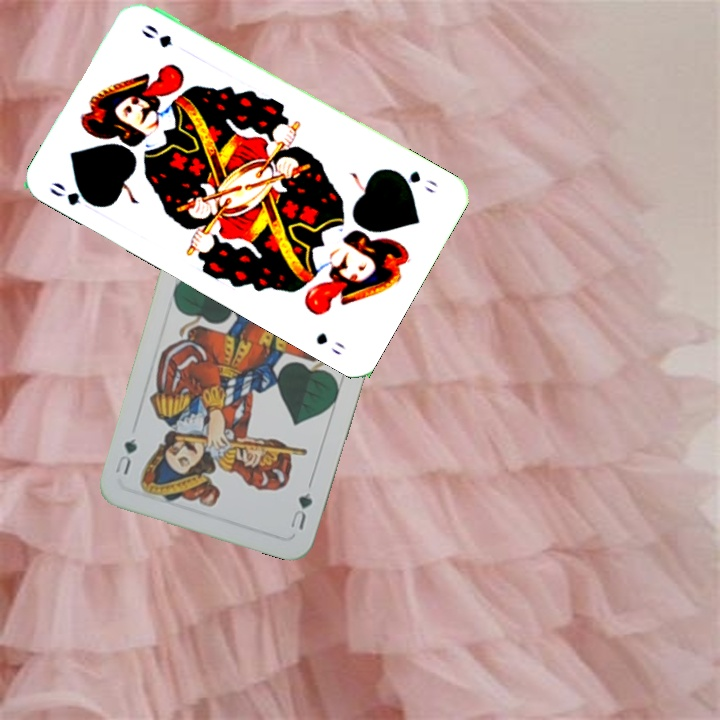GO: (45, 178, 102, 210), (389, 166, 440, 197)
GU: (286, 488, 315, 532)
